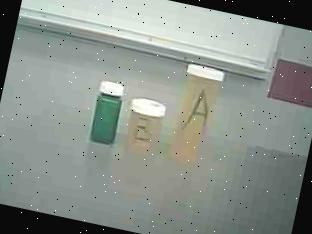Bottle A: (165, 59, 224, 170)
Bottle B: (120, 93, 171, 161)
Bottle C: (83, 77, 129, 150)
